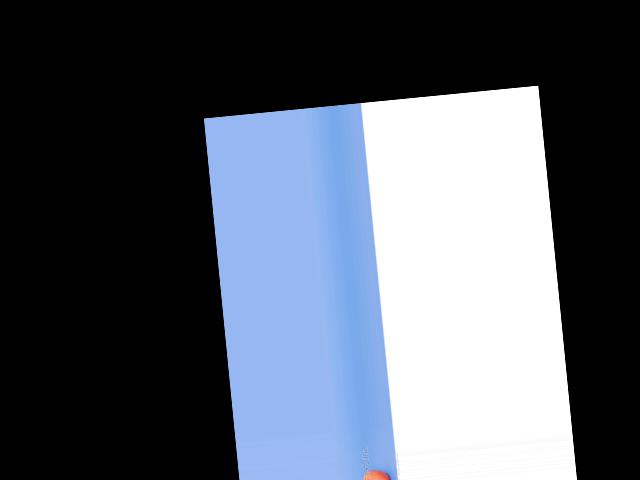tomato: (360, 469, 392, 480)
